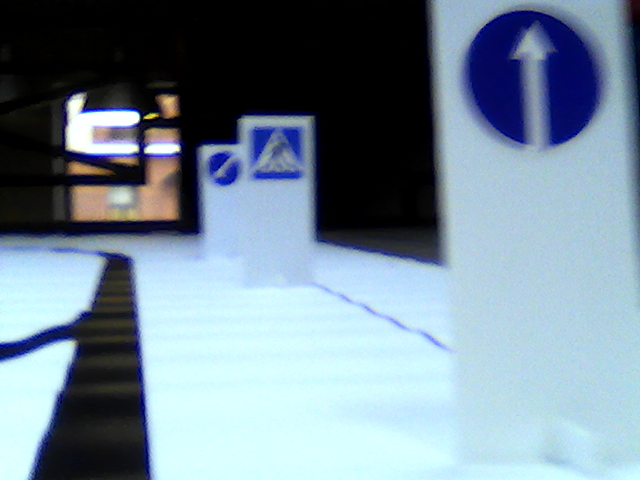forw: (467, 9, 605, 154)
pesh: (250, 126, 307, 180)
prep: (205, 150, 242, 185)
